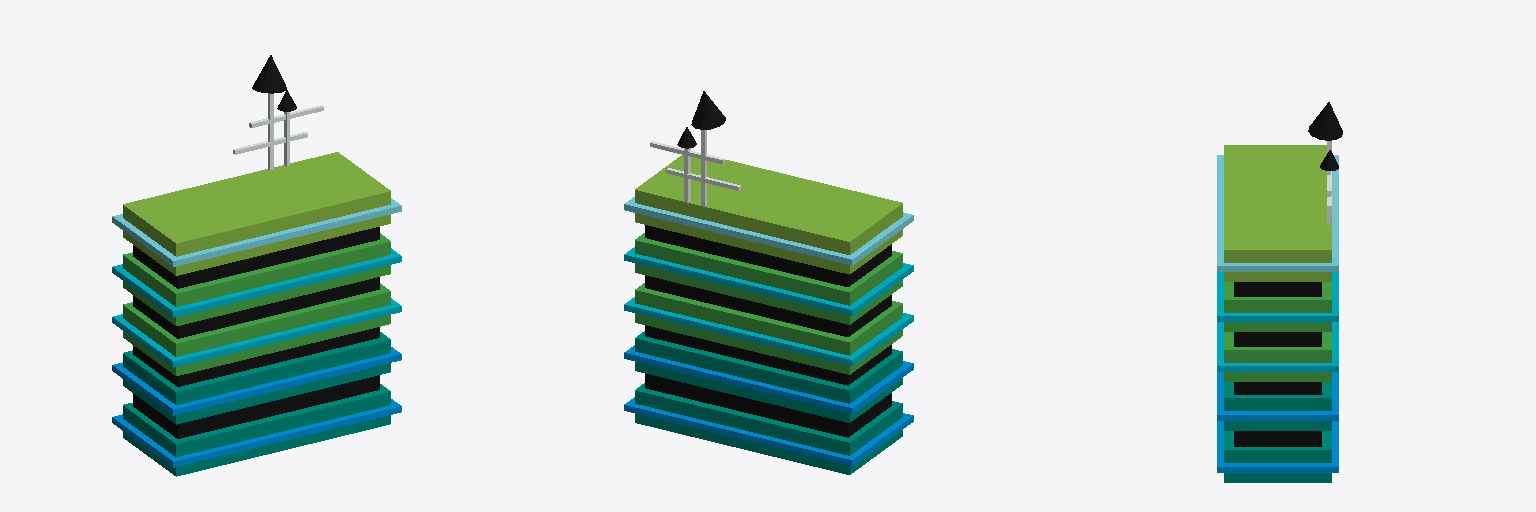
File: building_living_color.obj
3 views of the same model, side by side, from view 1: azimuth 30°, elevation 25°; view 2: azimuth 150°, elevation 25°; view 3: azimuth 270°, elevation 25° (orthographic).
Parts seen in each view (by area): view 1: mesh[number redacted], mesh[number redacted], mesh[number redacted], mesh[number redacted], mesh[number redacted], mesh[number redacted], mesh[number redacted], mesh[number redacted], mesh[number redacted], mesh[number redacted], mesh[number redacted], mesh[number redacted]; view 2: mesh[number redacted], mesh[number redacted], mesh[number redacted], mesh[number redacted], mesh[number redacted], mesh[number redacted], mesh[number redacted], mesh[number redacted], mesh[number redacted], mesh[number redacted], mesh[number redacted], mesh[number redacted]; view 3: mesh[number redacted], mesh[number redacted], mesh[number redacted], mesh[number redacted], mesh[number redacted], mesh[number redacted], mesh[number redacted], mesh[number redacted], mesh[number redacted], mesh[number redacted], mesh[number redacted], mesh[number redacted].
Part boxes in pixels (bbox=[...]): mesh[number redacted]: bbox=[123, 152, 390, 275]; mesh[number redacted]: bbox=[133, 227, 379, 438]; mesh[number redacted]: bbox=[123, 283, 390, 375]; mesh[number redacted]: bbox=[123, 384, 390, 476]; mesh[number redacted]: bbox=[123, 332, 390, 424]; mesh[number redacted]: bbox=[123, 233, 390, 325]; mesh[number redacted]: bbox=[112, 248, 401, 317]; mesh[number redacted]: bbox=[112, 347, 401, 415]; mesh[number redacted]: bbox=[112, 399, 401, 467]; mesh[number redacted]: bbox=[112, 298, 401, 367]; mesh[number redacted]: bbox=[112, 198, 401, 266]; mesh[number redacted]: bbox=[252, 55, 286, 93]; mesh[number redacted]: bbox=[635, 155, 902, 274]; mesh[number redacted]: bbox=[645, 225, 891, 437]; mesh[number redacted]: bbox=[635, 233, 902, 324]; mesh[number redacted]: bbox=[635, 283, 902, 374]; mesh[number redacted]: bbox=[635, 383, 902, 474]; mesh[number redacted]: bbox=[635, 331, 902, 422]; mesh[number redacted]: bbox=[624, 345, 913, 413]; mesh[number redacted]: bbox=[624, 297, 913, 365]; mesh[number redacted]: bbox=[624, 397, 913, 465]; mesh[number redacted]: bbox=[624, 197, 913, 265]; mesh[number redacted]: bbox=[624, 247, 913, 315]; mesh[number redacted]: bbox=[691, 91, 725, 129]; mesh[number redacted]: bbox=[1224, 145, 1331, 281]; mesh[number redacted]: bbox=[1234, 282, 1321, 446]; mesh[number redacted]: bbox=[1224, 431, 1331, 482]; mesh[number redacted]: bbox=[1224, 282, 1331, 331]; mesh[number redacted]: bbox=[1224, 332, 1331, 381]; mesh[number redacted]: bbox=[1224, 382, 1331, 430]; mesh[number redacted]: bbox=[1217, 155, 1338, 271]; mesh[number redacted]: bbox=[1217, 421, 1338, 472]; mesh[number redacted]: bbox=[1217, 372, 1338, 420]; mesh[number redacted]: bbox=[1217, 322, 1338, 371]; mesh[number redacted]: bbox=[1217, 272, 1338, 321]; mesh[number redacted]: bbox=[1308, 102, 1342, 140].
Size of the model in its own units: 1.18 by 1.72 by 0.5667.